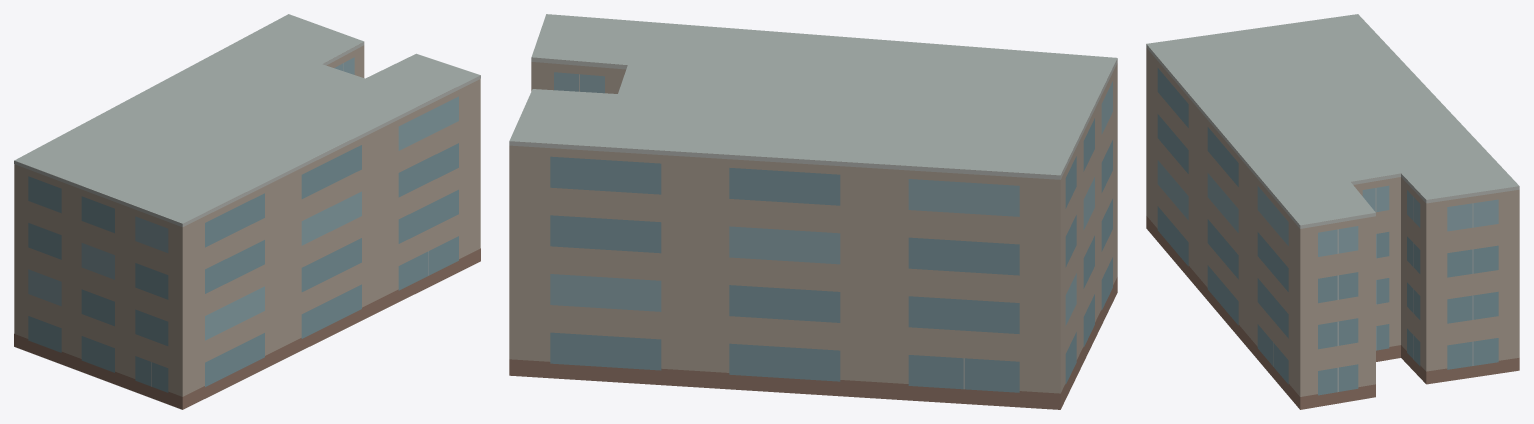
The model's file is survey-upis-32804007.glb.
3 views of the same model, side by side, from view 1: azimuth 30°, elevation 25°; view 2: azimuth 150°, elevation 25°; view 3: azimuth 270°, elevation 25° (orthographic). The views are drawn at different scales.
Visible parts, largest first — view 1: survey-upis-32804007.tmp; view 2: survey-upis-32804007.tmp; view 3: survey-upis-32804007.tmp.
Part boxes in pixels (x1,y1,x2,y2): survey-upis-32804007.tmp: (14, 14, 480, 409); survey-upis-32804007.tmp: (509, 14, 1117, 409); survey-upis-32804007.tmp: (1146, 14, 1519, 409).
Bounding box in the file's own units: 31.49 × 12.8 × 23.49.
